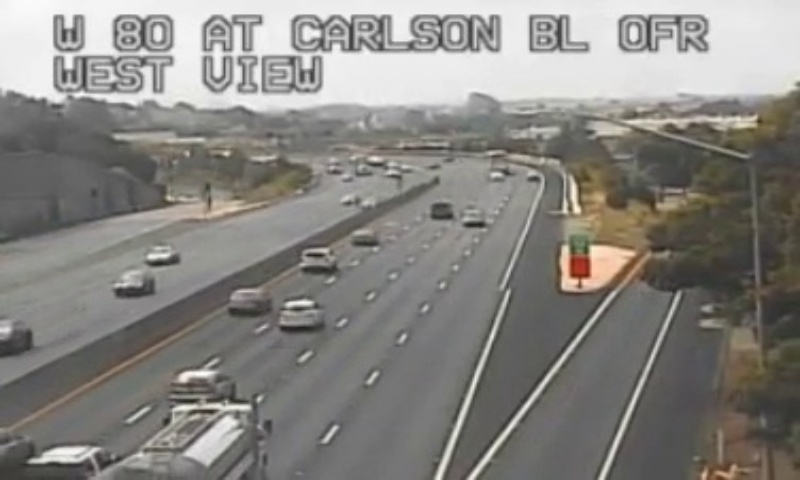car: (174, 369, 234, 400), (278, 299, 323, 328), (227, 288, 268, 312), (298, 249, 335, 270)
